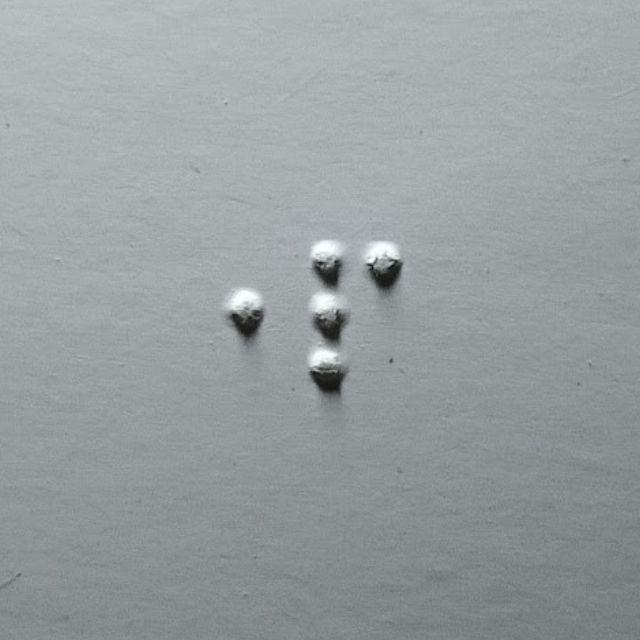dot_5: (169, 235, 265, 396)
patuloy: (310, 237, 405, 398)
